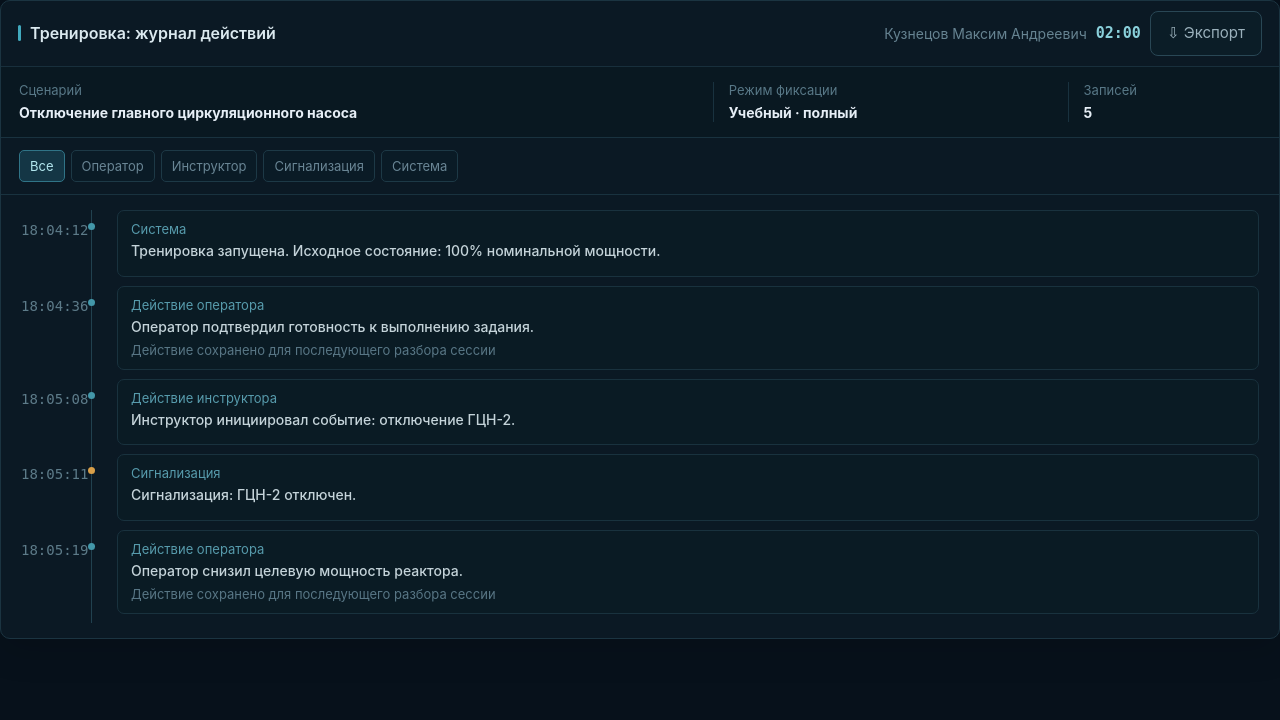
Test: JournalPage component › filters journal entries by category button click
Expected: the text "Оператор подтвердил готовность к выполнению задания." is shown, [131, 318, 534, 335]
Click the button "Инструктор" at (209, 166), box [161, 150, 258, 182]
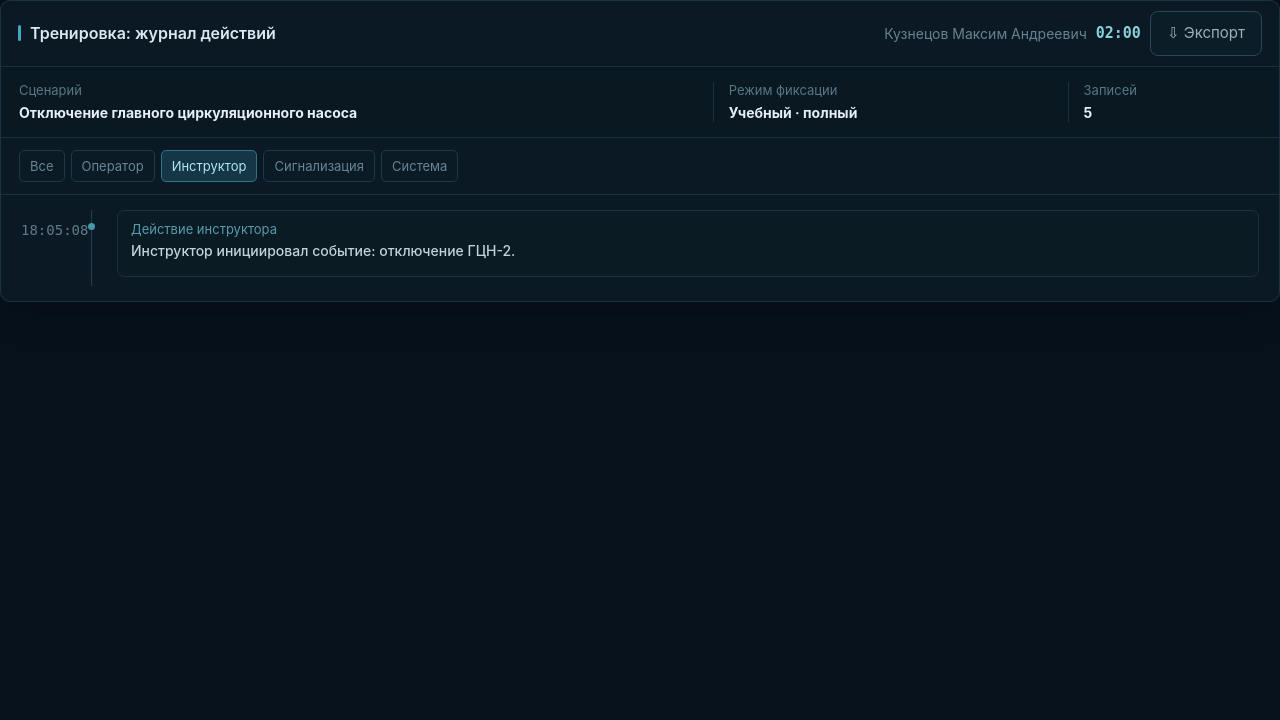
Expected: the text "Инструктор инициировал событие: отключение ГЦН-2." is shown, [131, 242, 515, 259]
Expected: the text "Оператор подтвердил готовность" is gone
